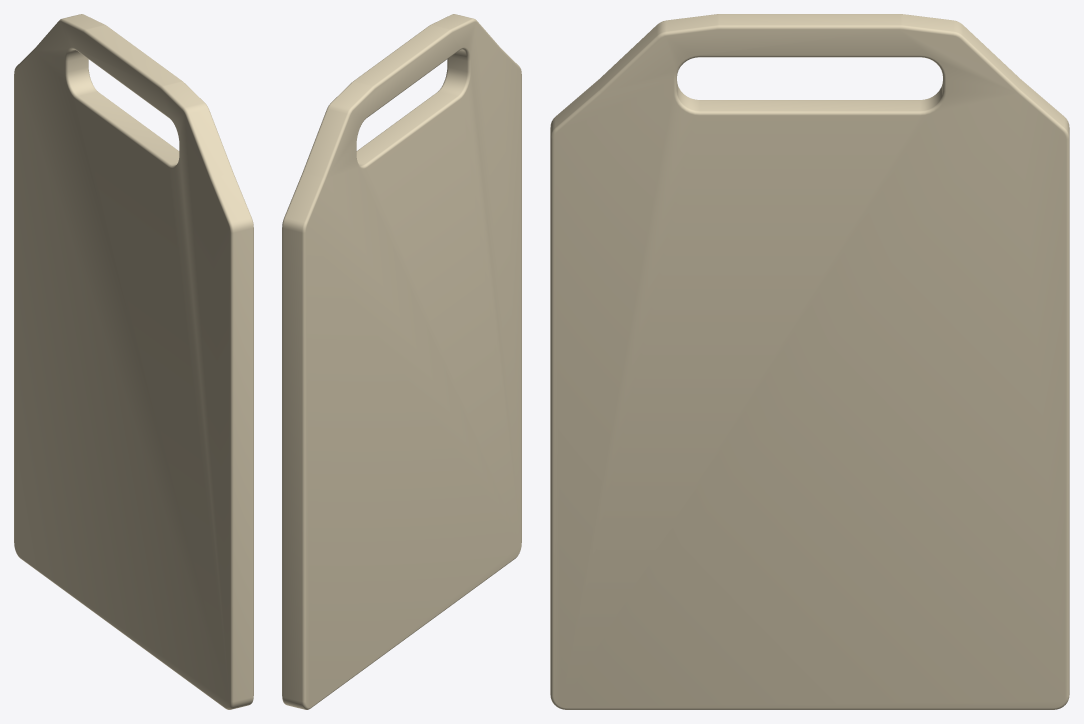
The model's file is simready-kitchenware_cuttingBoard_h01.glb.
The picture shows the model from 3 angles, left to right: view 1: azimuth 30°, elevation 25°; view 2: azimuth 150°, elevation 25°; view 3: azimuth 270°, elevation 25°; orthographic projection. The views are drawn at different scales.
Parts seen in each view (by area): view 1: board; view 2: board; view 3: board.
Part boxes in pixels (left/top/right/bottom): board: left=14, top=14, right=253, bottom=709; board: left=282, top=14, right=521, bottom=709; board: left=550, top=14, right=1069, bottom=709.
Bounding box in the file's own units: 0.014 × 0.3294 × 0.2263.
